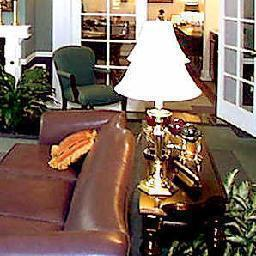Puerta: (221, 2, 255, 133)
